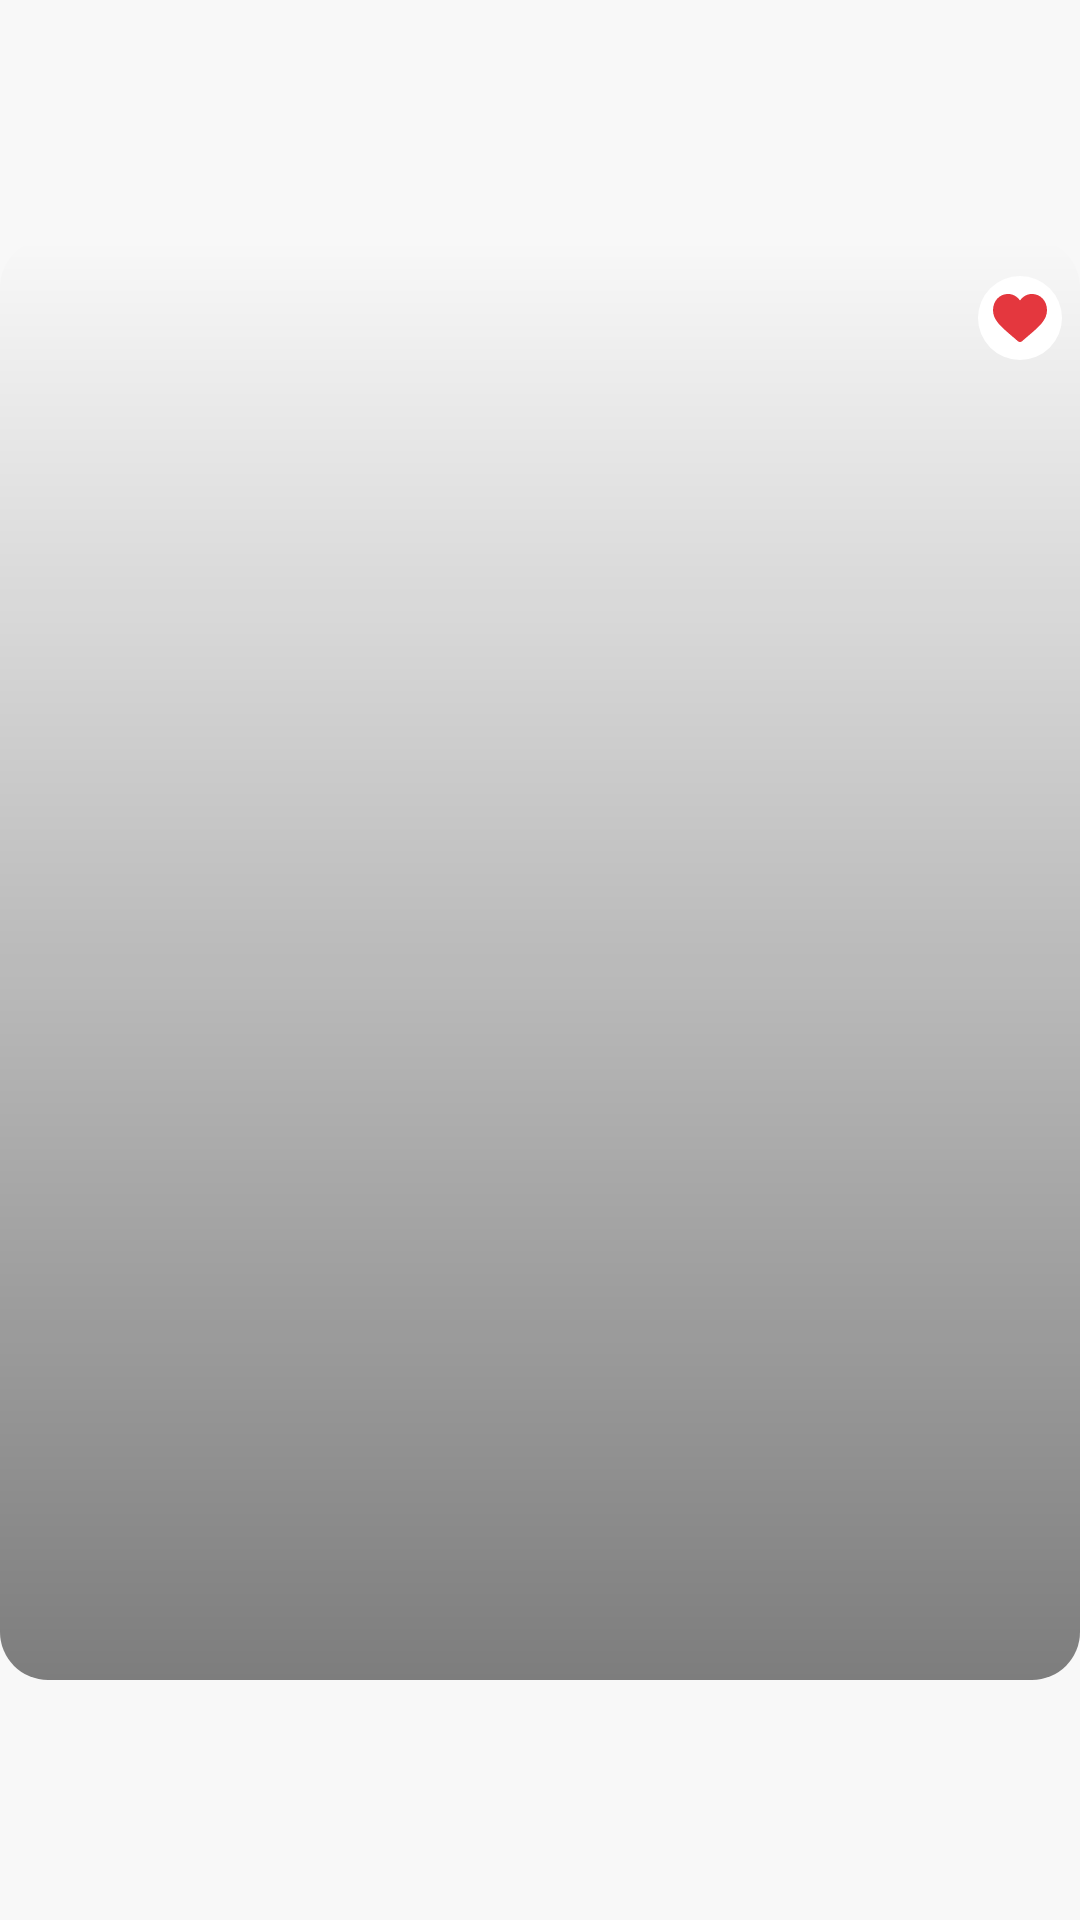

Icon click points for this 1080px×1920px phone screenshot, format (x,y):
heart: (1020,318)
